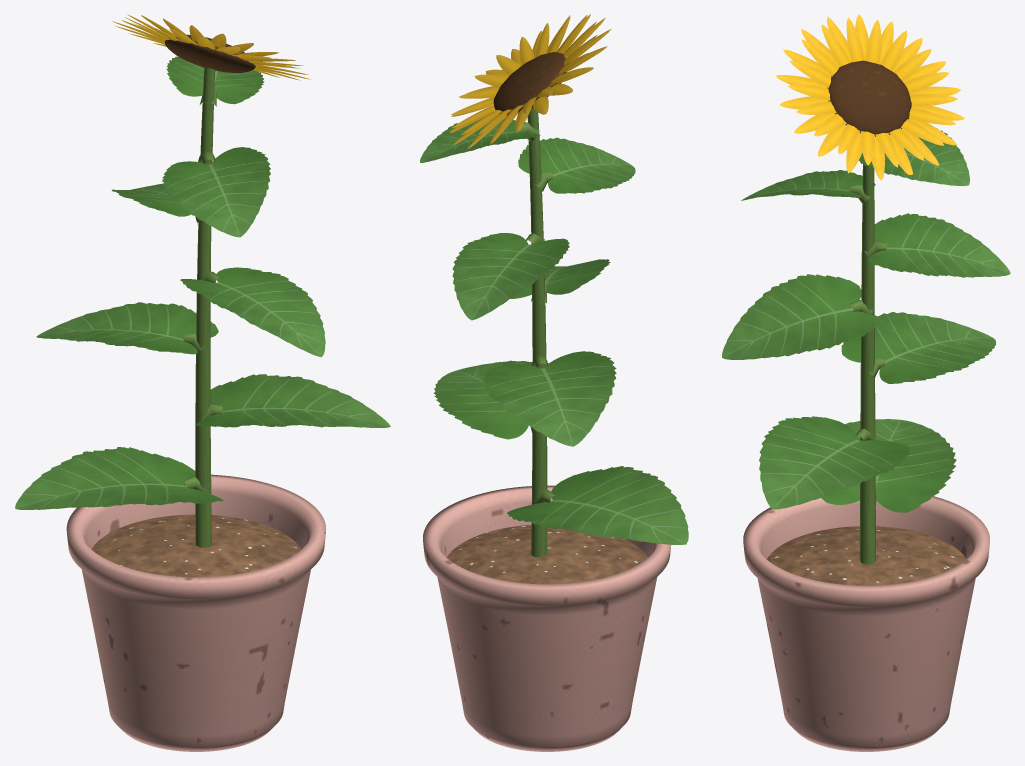
The model's file is sunflower.glb.
3 renders of one model, left to right at view 1: azimuth 30°, elevation 25°; view 2: azimuth 150°, elevation 25°; view 3: azimuth 270°, elevation 25°, orthographic. The views are drawn at different scales.
Visible parts, largest first — view 1: piece-0, piece-1, piece-2, piece-3, piece-7, piece-5, piece-12, piece-4, piece-9, piece-8, piece-10, piece-6; view 2: piece-0, piece-2, piece-4, piece-1, piece-9, piece-6, piece-12, piece-7, piece-3, piece-10, piece-8, piece-5; view 3: piece-0, piece-9, piece-3, piece-5, piece-1, piece-4, piece-6, piece-2, piece-12, piece-10, piece-8, piece-7.
Part boxes in pixels (left/top/right/bottom): piece-0: left=66, top=474, right=326, bottom=751; piece-1: left=91, top=514, right=301, bottom=577; piece-2: left=15, top=447, right=223, bottom=509; piece-3: left=196, top=374, right=390, bottom=427; piece-7: left=162, top=147, right=270, bottom=237; piece-5: left=180, top=267, right=325, bottom=357; piece-12: left=183, top=67, right=222, bottom=547; piece-4: left=36, top=302, right=218, bottom=354; piece-9: left=112, top=14, right=310, bottom=80; piece-8: left=166, top=56, right=264, bottom=104; piece-10: left=164, top=34, right=255, bottom=72; piece-6: left=112, top=183, right=190, bottom=216; piece-0: left=423, top=485, right=671, bottom=751; piece-2: left=507, top=466, right=688, bottom=544; piece-4: left=482, top=351, right=616, bottom=446; piece-1: left=446, top=524, right=647, bottom=584; piece-9: left=450, top=14, right=611, bottom=148; piece-6: left=452, top=233, right=569, bottom=320; piece-12: left=518, top=107, right=555, bottom=557; piece-7: left=518, top=137, right=635, bottom=193; piece-3: left=434, top=360, right=548, bottom=439; piece-10: left=493, top=52, right=568, bottom=114; piece-8: left=420, top=118, right=540, bottom=162; piece-5: left=510, top=259, right=610, bottom=298; piece-0: left=743, top=496, right=989, bottom=751; piece-9: left=775, top=14, right=964, bottom=180; piece-3: left=759, top=416, right=909, bottom=509; piece-5: left=722, top=274, right=880, bottom=359; piece-1: left=767, top=526, right=966, bottom=585; piece-4: left=841, top=312, right=995, bottom=383; piece-6: left=868, top=213, right=1010, bottom=277; piece-2: left=821, top=419, right=956, bottom=512; piece-12: left=849, top=164, right=886, bottom=564; piece-10: left=827, top=60, right=911, bottom=136; piece-8: left=858, top=128, right=969, bottom=185; piece-7: left=741, top=170, right=875, bottom=200.
Size of the model in its own units: 0.227 by 0.5002 by 0.1923.
7 materials, 7 textured.
